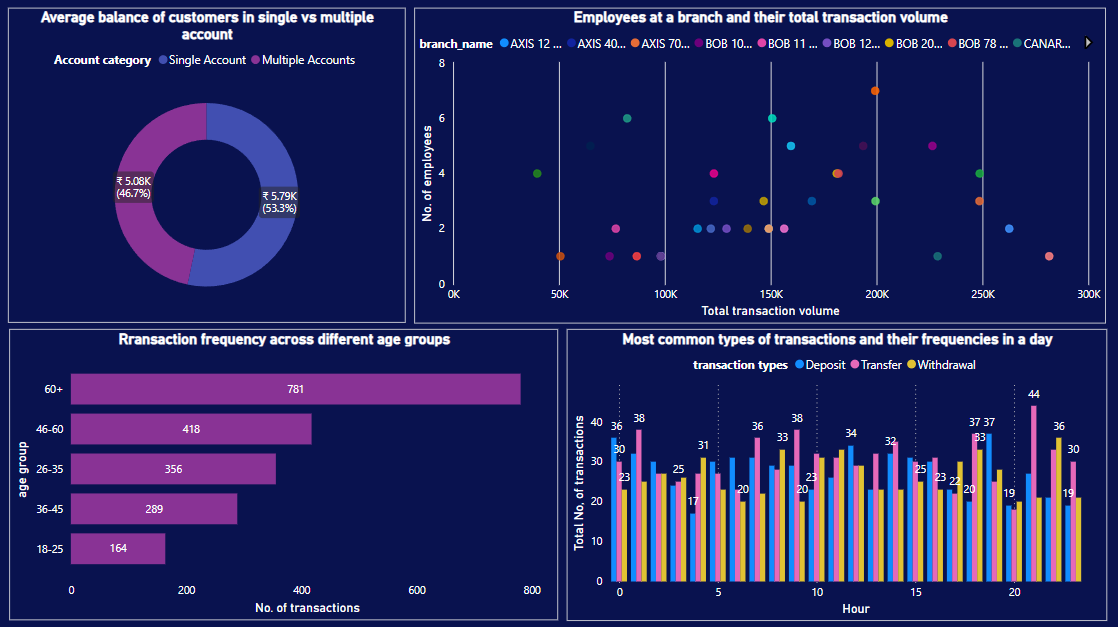

The page's visual inventory and layout, read from the dashboard file:
{"tool":"powerbi","page":{"name":"Dashboard 2","canvas":[1280,720],"ordinal":1},"visuals":[{"type":"textbox","box":[0,0,12.1,87.4],"z":0},{"type":"donutChart","title":" Average balance of customers in single vs multiple account","fields":{"Y":["Avg(accounts.balance)"],"Category":["accounts.single or multiple accounts"]},"box":[11.4,10,454.3,360],"z":1000},{"type":"scatterChart","title":" Employees at a branch and their total transaction volume","fields":{"X":["Transactions.TotalTransactionVolume"],"Y":["employees.EmployeeCount"],"Series":["branches.branch_name"]},"box":[476.1,9.4,790.8,360.4],"z":2000},{"type":"clusteredColumnChart","title":"Most common types of transactions and their frequencies in a day","fields":{"Category":["Transactions grouped by.Hour"],"Y":["Sum(Transactions grouped by.transaction count)"],"Series":["Transactions grouped by.transaction_type"]},"box":[649.6,376.6,617.3,333.5],"z":3000},{"type":"barChart","title":" Rransaction frequency across different age groups","fields":{"Category":["customers.age group"],"Y":["CountNonNull(Transactions.transaction_id)"]},"box":[12.5,377.5,627.5,332.5],"z":4000}]}

Visuals, with their boxes in screenshot pixels (x1, y1, x2, y2), scaled from the page's 1280x720 canvas onto the 1118x627 screenshot:
textbox: left=0, top=0, right=11, bottom=76
" Average balance of customers in single vs multiple account" donutChart: left=10, top=9, right=407, bottom=322
" Employees at a branch and their total transaction volume" scatterChart: left=416, top=8, right=1107, bottom=322
"Most common types of transactions and their frequencies in a day" clusteredColumnChart: left=567, top=328, right=1107, bottom=618
" Rransaction frequency across different age groups" barChart: left=11, top=329, right=559, bottom=618
